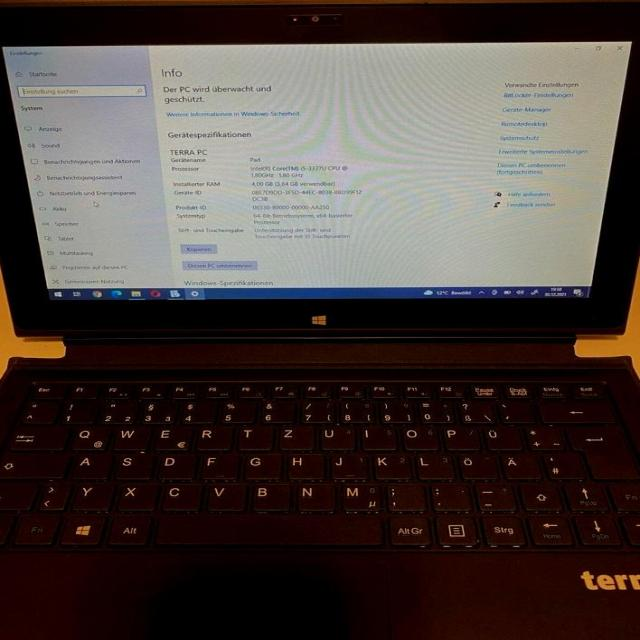0: (416, 399, 453, 422)
1: (58, 400, 96, 423)
2: (98, 398, 136, 422)
3: (137, 398, 176, 422)
4: (178, 399, 214, 422)
5: (218, 399, 253, 422)
6: (258, 399, 293, 422)
7: (298, 399, 334, 422)
8: (337, 399, 373, 422)
9: (376, 399, 412, 422)
a: (68, 451, 109, 477)
accent: (496, 399, 533, 422)
ae: (497, 451, 539, 478)
alt-left: (104, 512, 149, 544)
altgr-right: (385, 513, 429, 544)
b: (247, 481, 288, 510)
c: (157, 481, 199, 510)
caret: (15, 399, 57, 422)
comma: (383, 482, 424, 511)
d: (154, 451, 194, 478)
del: (534, 398, 613, 422)
e: (150, 423, 189, 450)
enter: (562, 424, 639, 477)
f: (197, 452, 236, 478)
g: (240, 451, 279, 478)
h: (283, 451, 322, 478)
hash: (540, 450, 582, 478)
i: (358, 425, 396, 450)
j: (327, 452, 365, 478)
k: (371, 452, 410, 478)
keyboard: (0, 370, 640, 553)
l: (412, 452, 452, 478)
less: (35, 480, 68, 508)
m: (338, 482, 380, 511)
minus: (471, 481, 513, 510)
n: (292, 482, 333, 510)
o: (399, 424, 437, 449)
oe: (456, 452, 496, 479)
p: (440, 425, 478, 450)
plus: (523, 423, 563, 449)
point: (428, 481, 469, 510)
q: (67, 424, 107, 450)
r: (192, 424, 230, 449)
s: (110, 451, 151, 478)
shift-left: (0, 479, 36, 509)
shift-lock: (0, 450, 67, 478)
shift-right: (516, 480, 561, 509)
space: (151, 512, 381, 544)
ss: (455, 399, 492, 422)
strg-right: (479, 513, 524, 544)
t: (234, 424, 271, 449)
tab: (5, 422, 66, 449)
u: (317, 424, 354, 449)
ue: (480, 423, 520, 449)
v: (203, 481, 243, 510)
w: (110, 423, 149, 449)
x: (113, 481, 155, 510)
y: (68, 481, 111, 509)
z: (275, 424, 312, 449)
